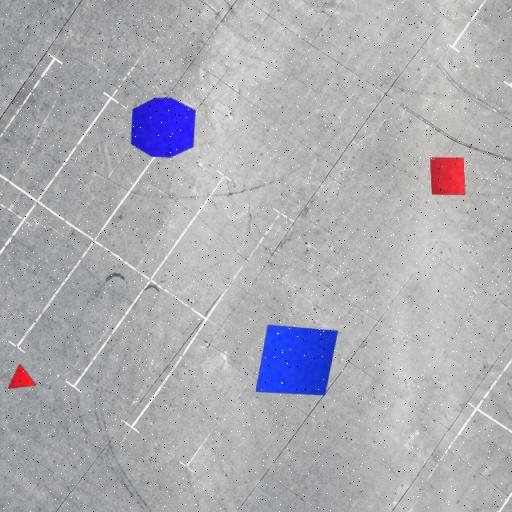BLUE_SQUARE: (254, 324, 338, 396)
RED_SQUARE: (430, 157, 466, 195)
